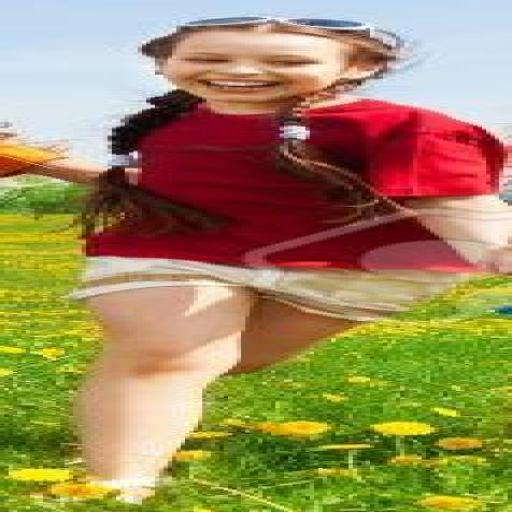person: (18, 17, 511, 502)
